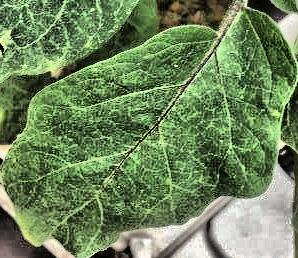HEALTHY: (1, 0, 298, 258)
